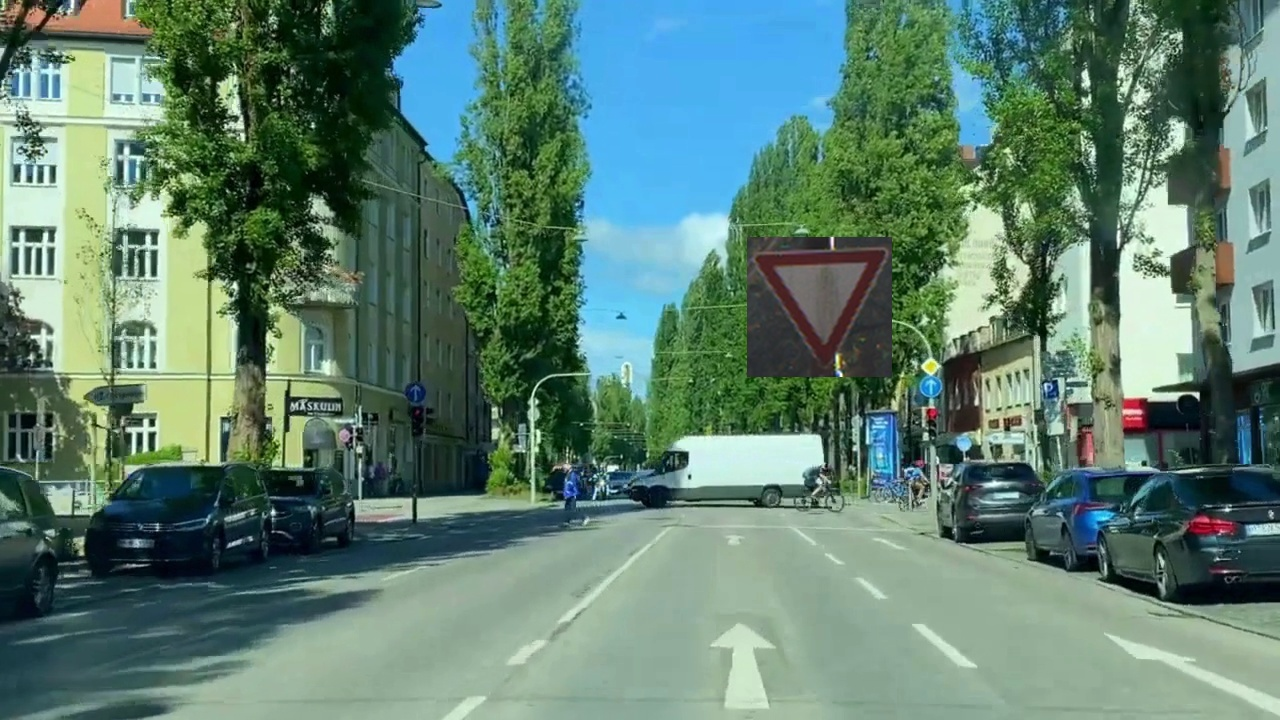Yield: (747, 237, 892, 377)
